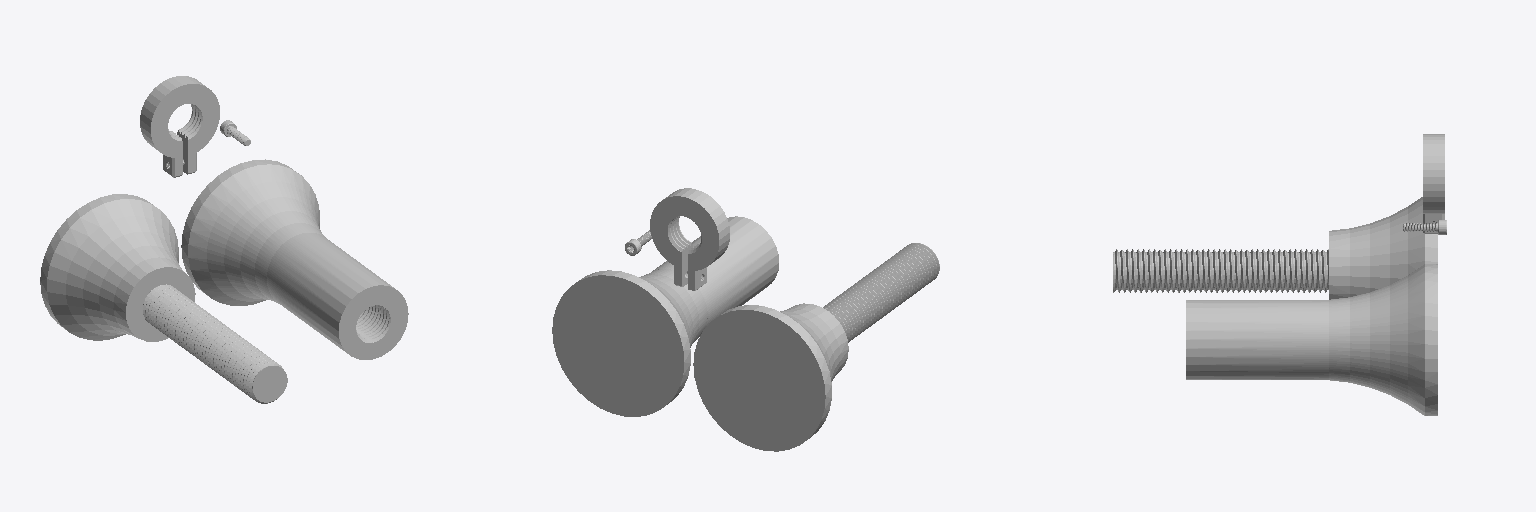
Rendered from Press_fitted_stand.obj.
3 views of the same model, side by side, from view 1: azimuth 30°, elevation 25°; view 2: azimuth 150°, elevation 25°; view 3: azimuth 270°, elevation 25° (orthographic).
Visible parts, largest first — view 1: Cut, Fusion, Chamfer; view 2: Fusion, Cut, Chamfer; view 3: Cut, Fusion, Chamfer.
Part boxes in pixels (x1,y1,x2,y2): Cut: (181, 159, 408, 359); Fusion: (40, 194, 287, 403); Chamfer: (140, 76, 219, 177); Fusion: (693, 243, 939, 451); Cut: (552, 216, 778, 416); Chamfer: (650, 188, 729, 290); Cut: (1186, 264, 1437, 415); Fusion: (1113, 197, 1437, 299); Chamfer: (1423, 134, 1444, 233).
Bounding box in the file's own units: 145 × 121 × 154.